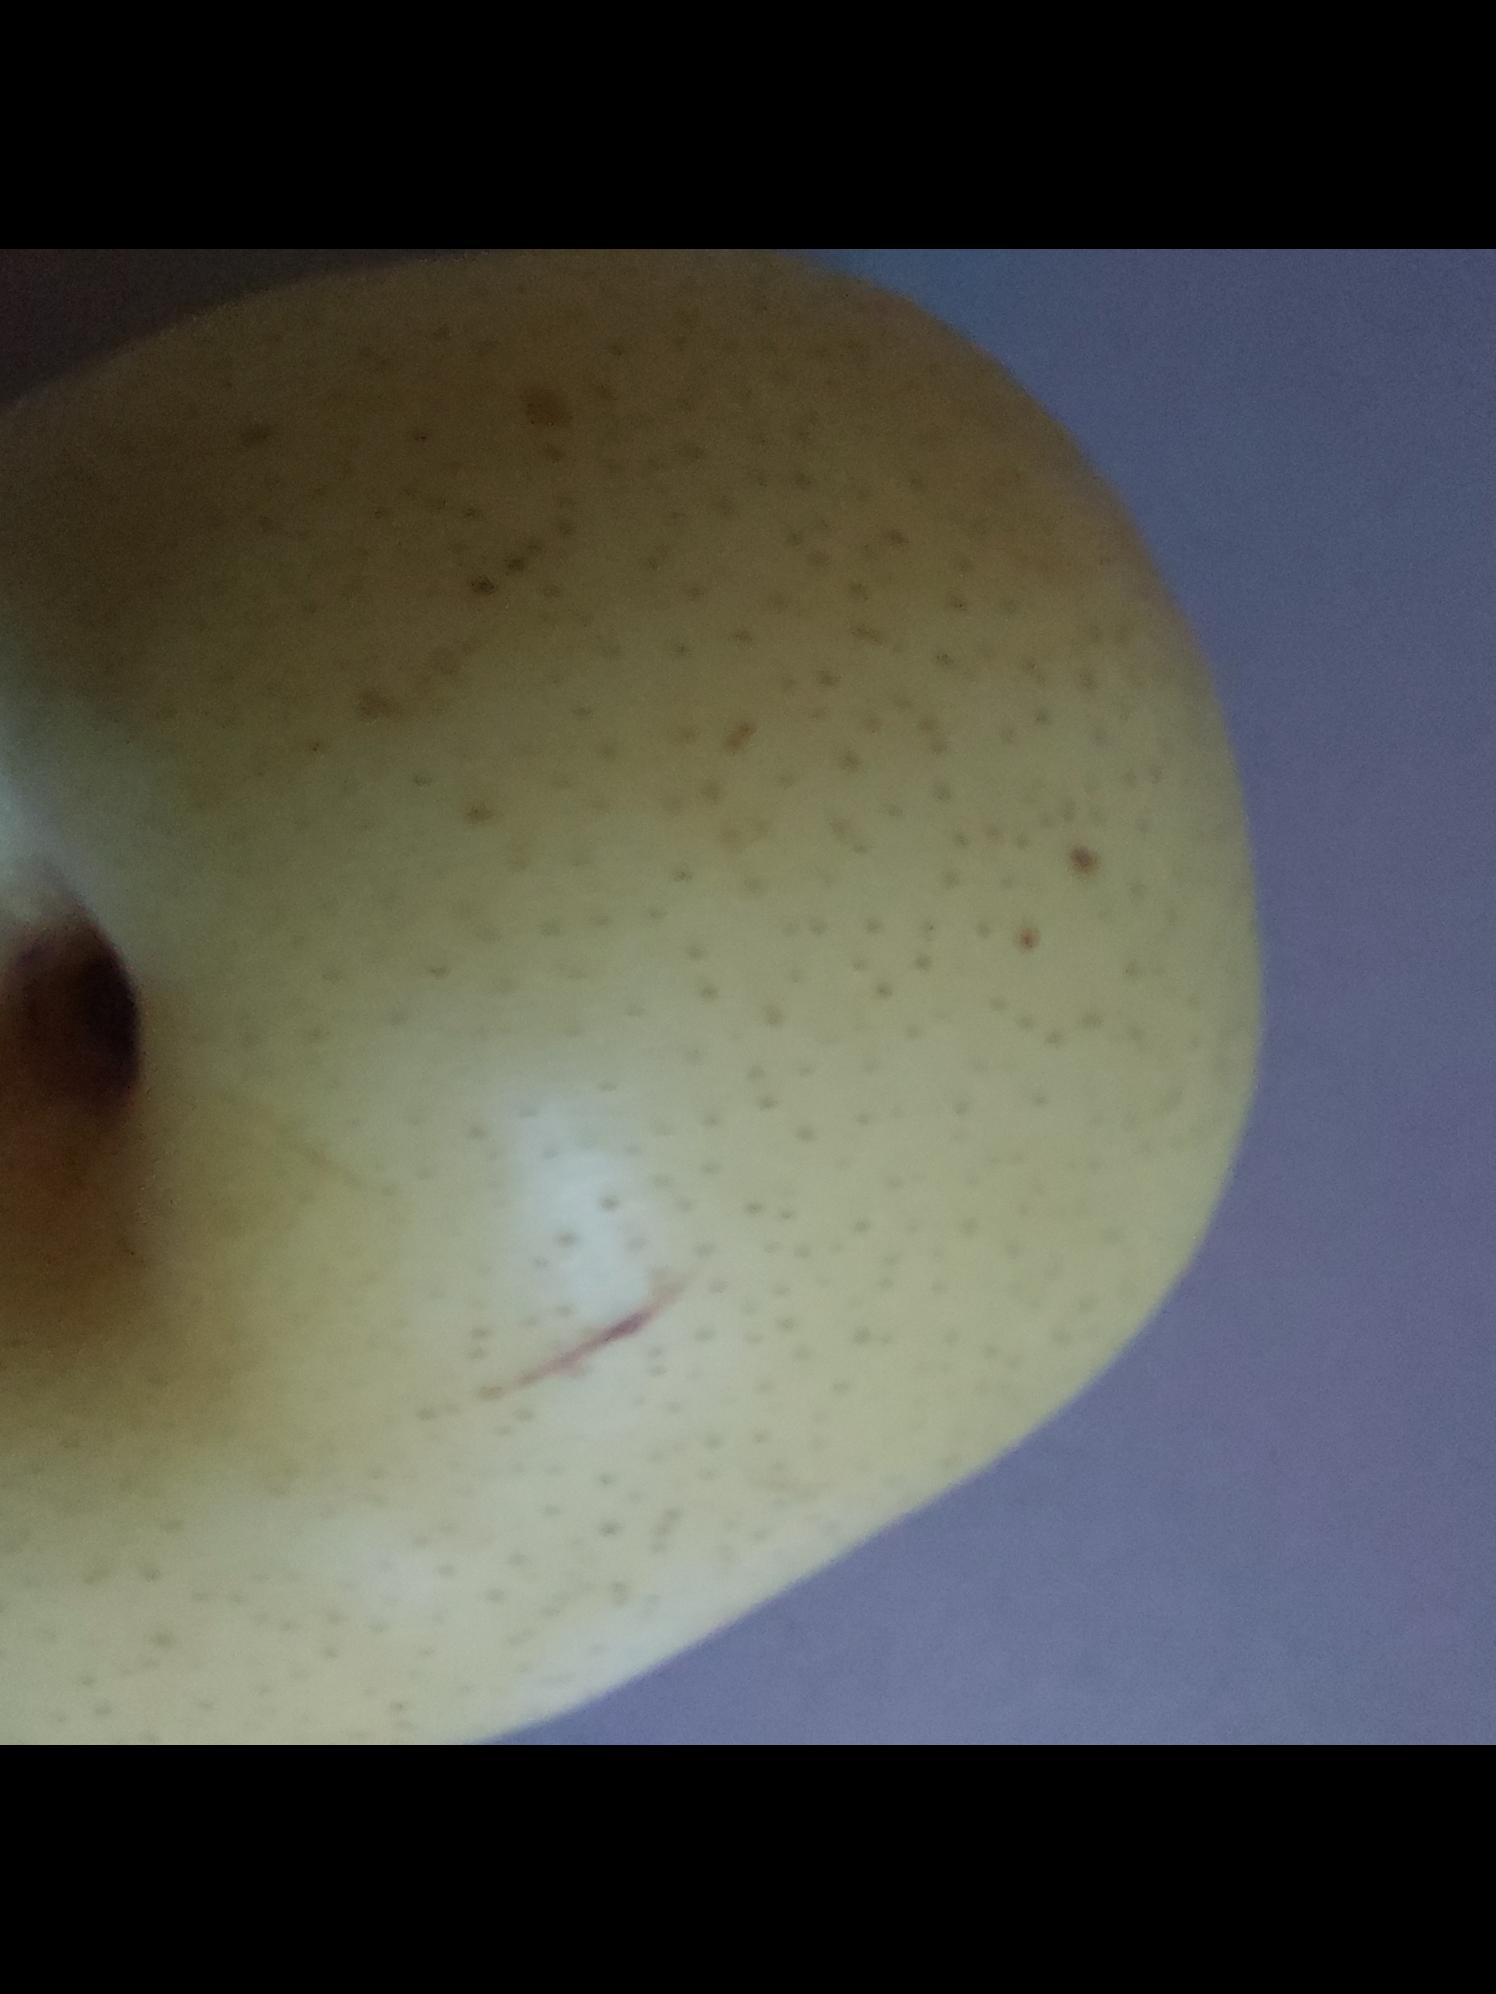Good Pear: (0, 248, 1278, 1746)
